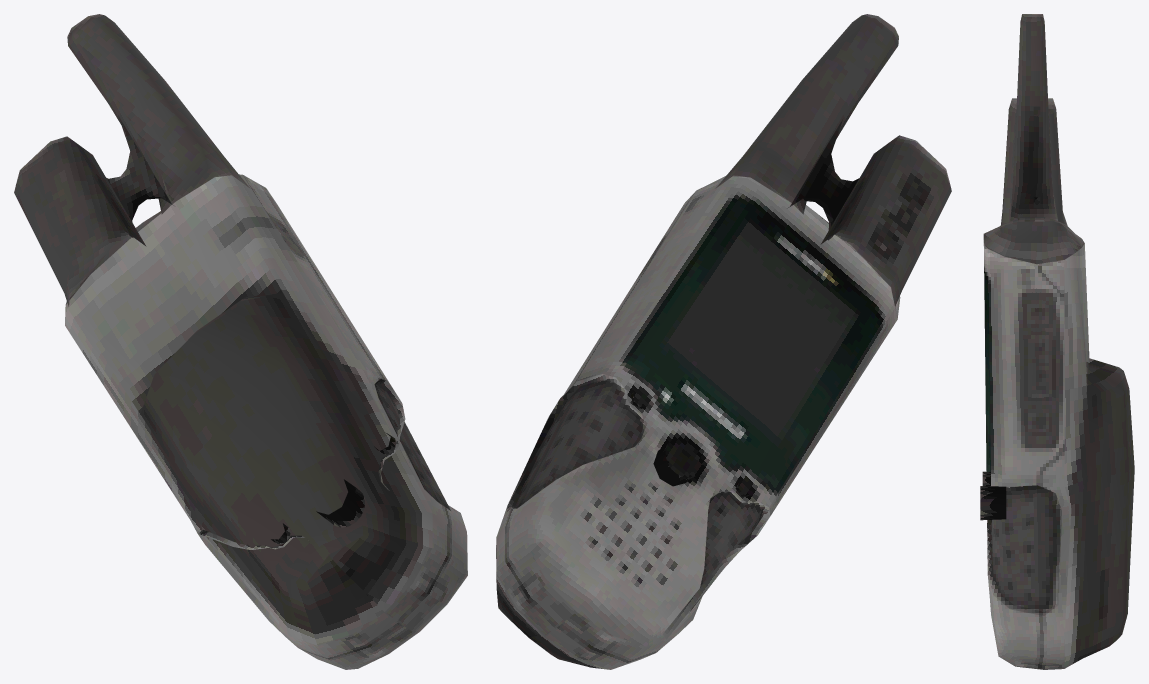
File: ps2_save-icons_cabelasoutdooradventures2009.glb
The picture shows the model from 3 angles, left to right: view 1: azimuth 30°, elevation 25°; view 2: azimuth 150°, elevation 25°; view 3: azimuth 270°, elevation 25°; orthographic projection. The views are drawn at different scales.
Parts seen in each view (by area): view 1: static.ico; view 2: static.ico; view 3: static.ico.
Part boxes in pixels (x1=…): static.ico: x1=14, y1=14, x2=467, y2=669; static.ico: x1=496, y1=14, x2=951, y2=669; static.ico: x1=980, y1=14, x2=1134, y2=669.
Size of the model in its own units: 3.22 by 5 by 1.27.
1 material, 1 textured.
